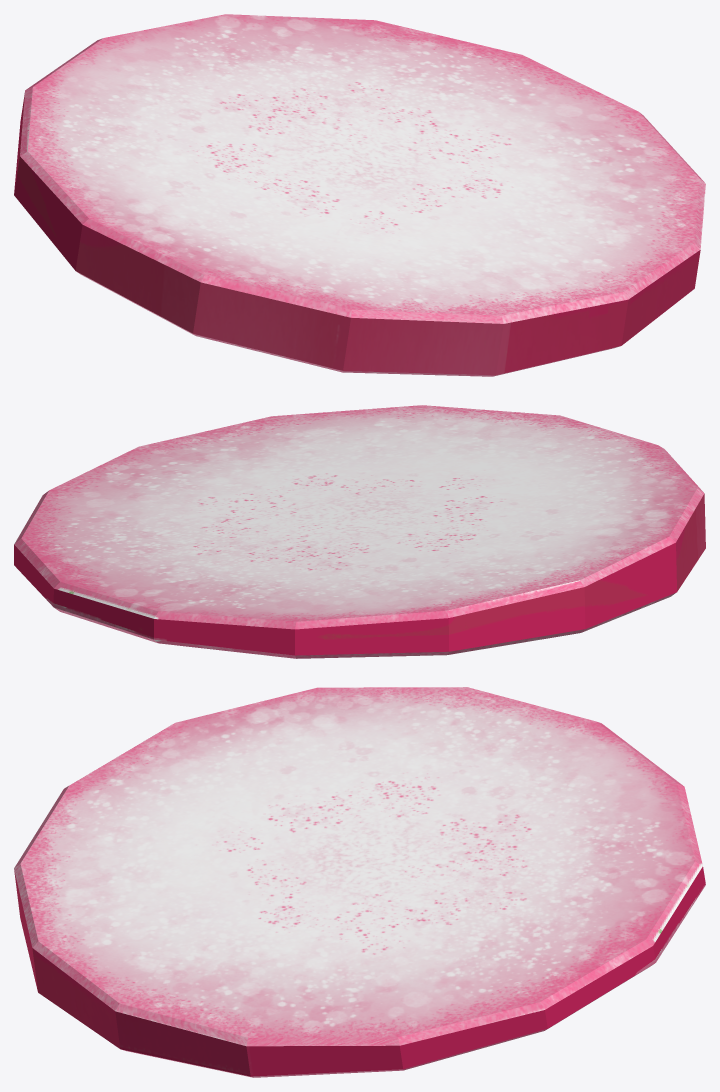
File: radish_slice.fbx
3 views of the same model, one above another, from view 1: azimuth 30°, elevation 25°; view 2: azimuth 150°, elevation 25°; view 3: azimuth 270°, elevation 25° (orthographic).
Parts seen in each view (by area): view 1: Circle.004; view 2: Circle.004; view 3: Circle.004.
Part boxes in pixels (x1,y1,x2,y2): Circle.004: (14,14,705,376); Circle.004: (14,405,705,658); Circle.004: (14,687,705,1077).
Size of the model in its own units: 45.01 by 9.37 by 45.11.
